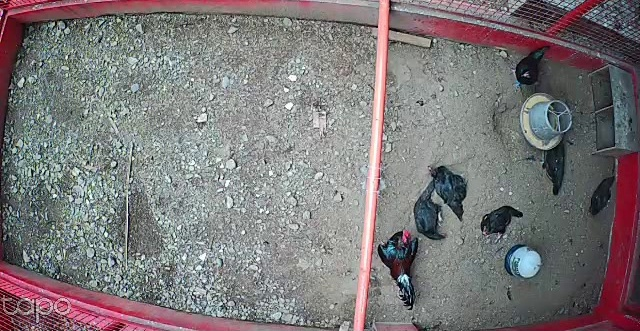Chicken: (425, 162, 470, 223), (412, 180, 448, 242), (539, 136, 569, 198), (479, 203, 524, 242), (587, 170, 619, 218)
Drinker: (504, 242, 542, 280)
Feeder: (519, 92, 573, 150)
Rooster: (376, 225, 421, 311)
